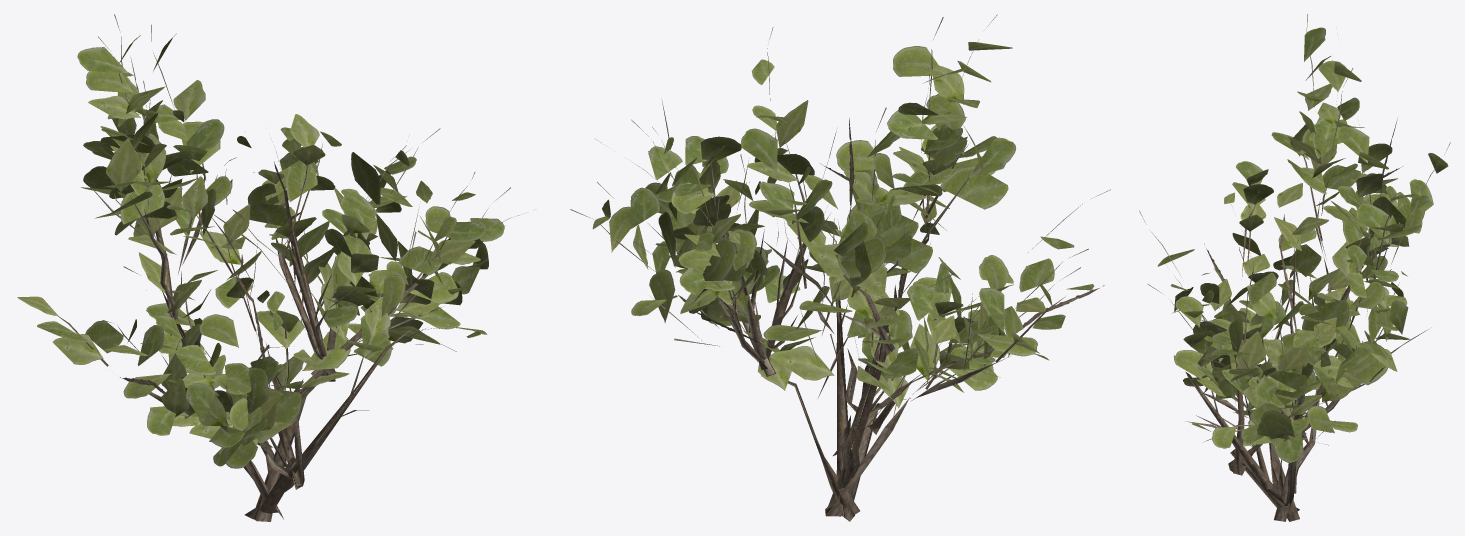
3 renders of one model, left to right at view 1: azimuth 30°, elevation 25°; view 2: azimuth 150°, elevation 25°; view 3: azimuth 270°, elevation 25°, orthographic. The views are drawn at different scales.
Visible parts, largest first — view 1: searsia_lucida__c_lod1; view 2: searsia_lucida__c_lod1; view 3: searsia_lucida__c_lod1.
Boxes of the visible parts, x1,y1,x2,y2 form: searsia_lucida__c_lod1: (17, 14, 519, 521); searsia_lucida__c_lod1: (570, 14, 1110, 521); searsia_lucida__c_lod1: (1139, 14, 1450, 521).
Size of the model in its own units: 1.07 by 1.07 by 0.6921.
Materials: 2 (2 with a texture image).
